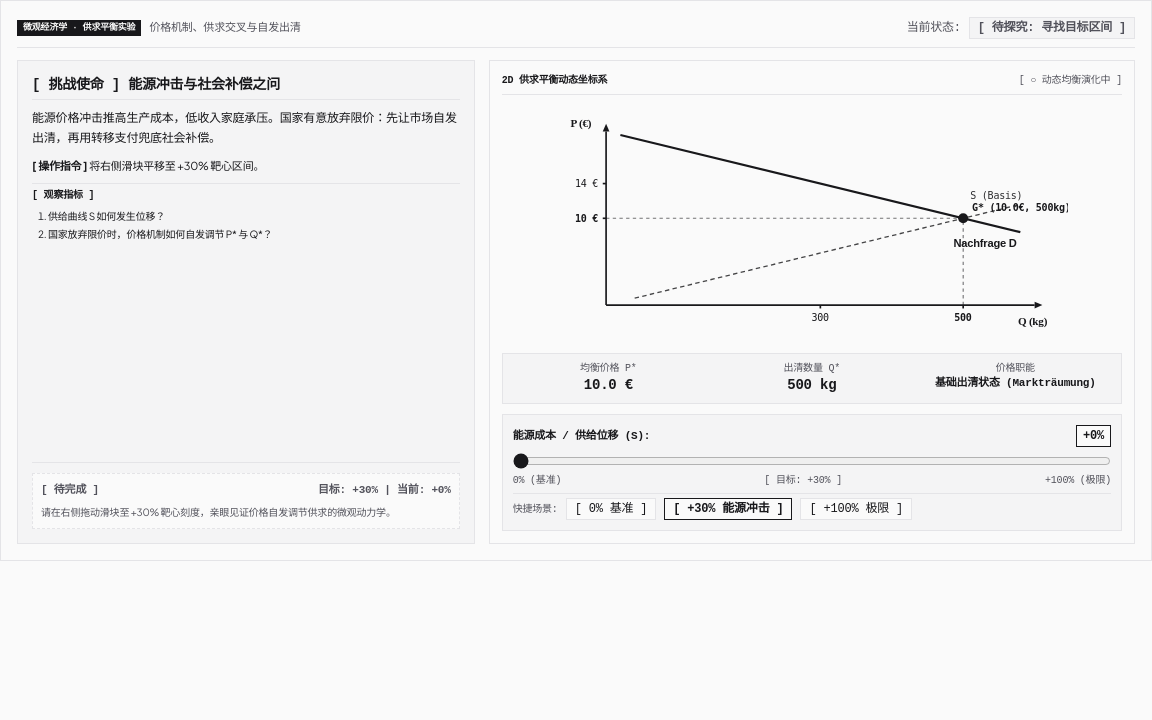
MarktgleichgewichtSim Component › renders a distinct sozial scenario with its own mission and +30% target
Check: the text "[ 挑战使命 ] 能源冲击与社会补偿之问" is shown, box [32,75,460,100]
Check: the text "能源成本 / 供给位移 (S):" is shown, box [513,429,650,443]
Note: Target is +30% (28%~32%), not +50%
Set the slider to "50" at (812, 461), box [513,453,1111,469]
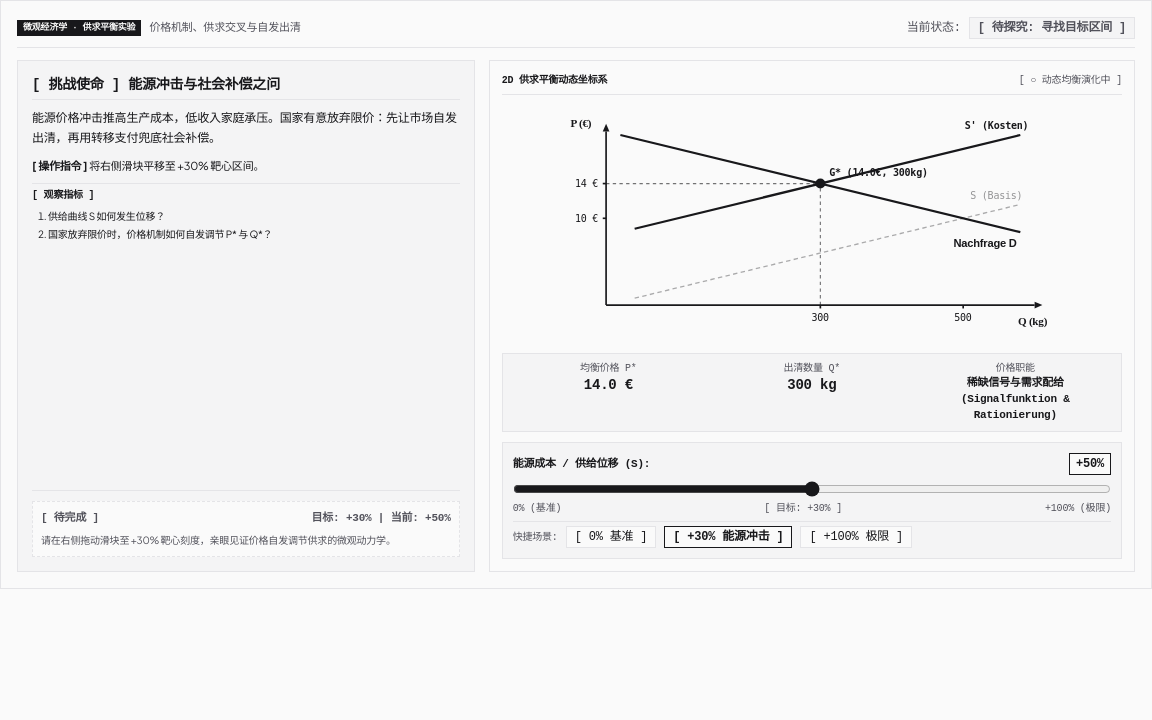
Set the slider to "30" at (695, 489), box [513,481,1111,497]
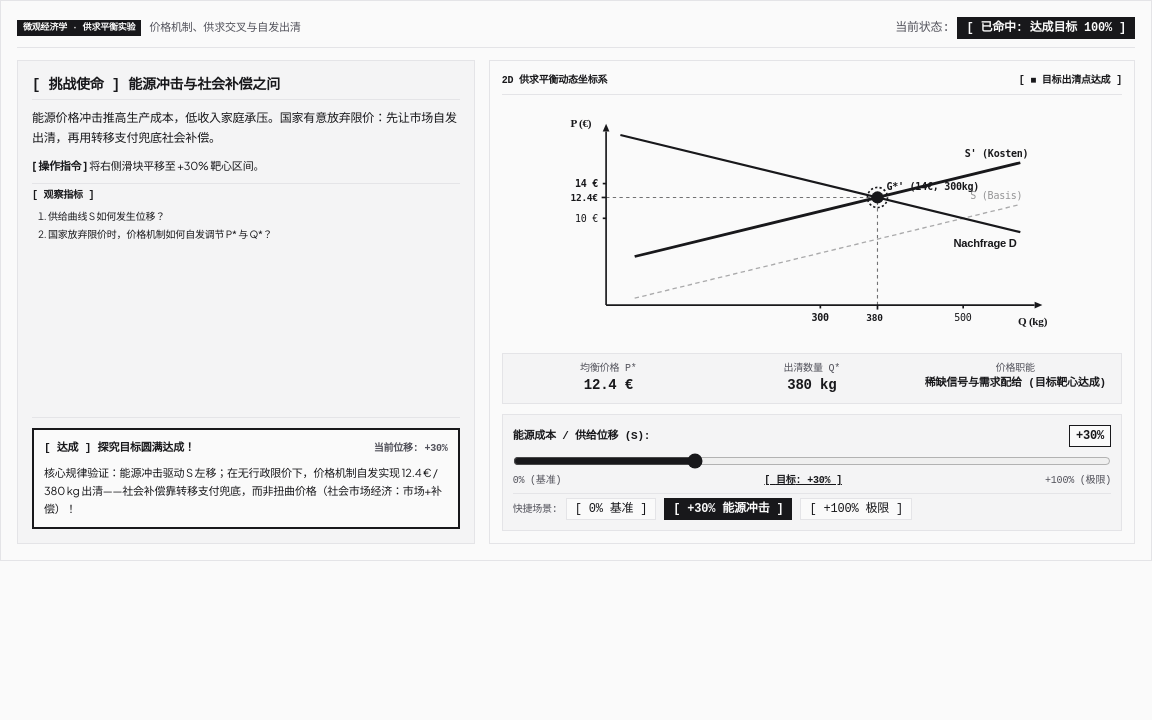
Check: the text "能源价格冲击推高生产成本，低收入家庭承压。国家有意放弃限价：先让市场自发出清，再用转移支付兜底社会补偿。" is shown, box [32,108,460,147]
Check: the text "380 kg" is shown, box [44,466,442,515]
